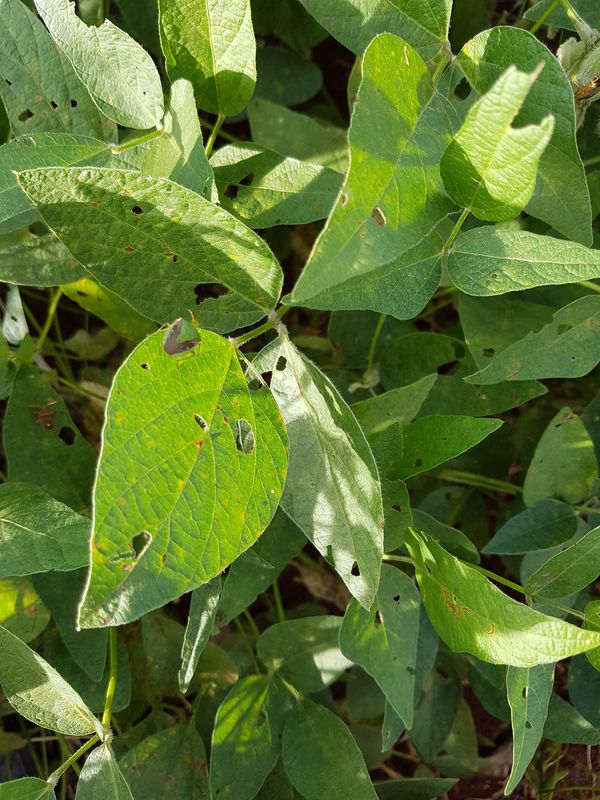Edessa_meditabunda: (147, 306, 217, 366)
Euschistus_heros_adulto: (24, 397, 65, 438)
